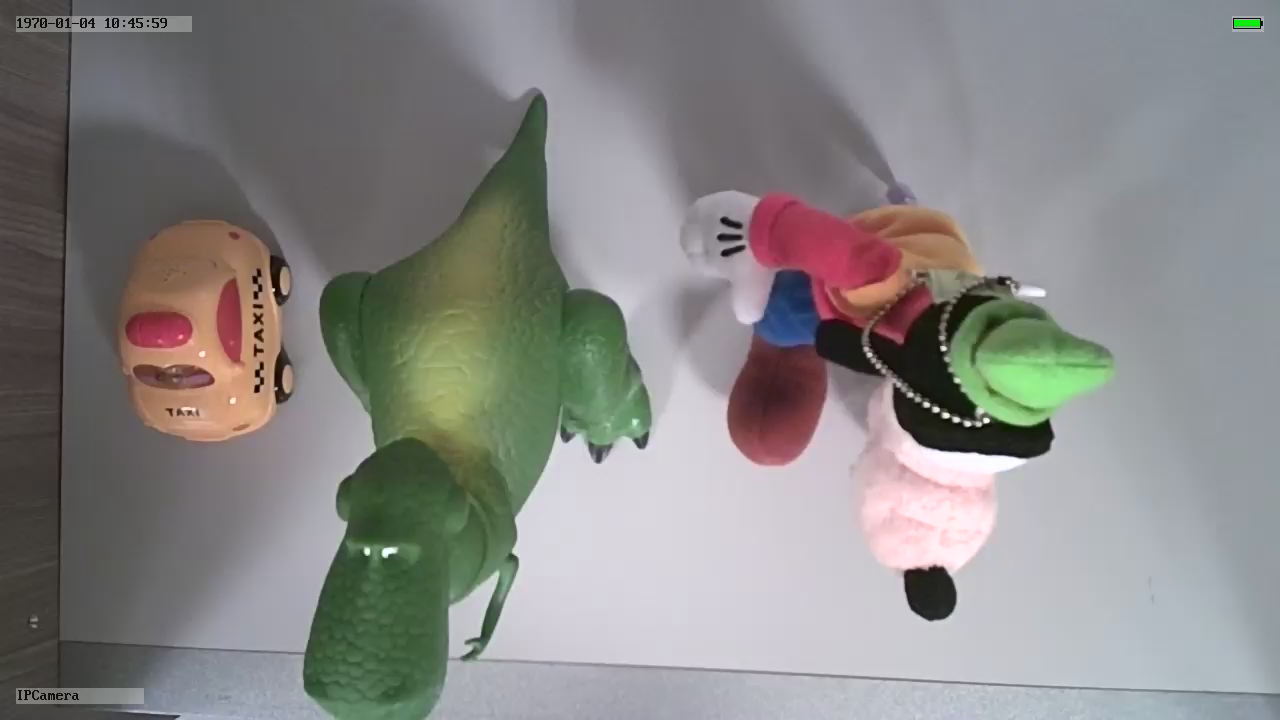goofy: (678, 183, 1115, 637)
